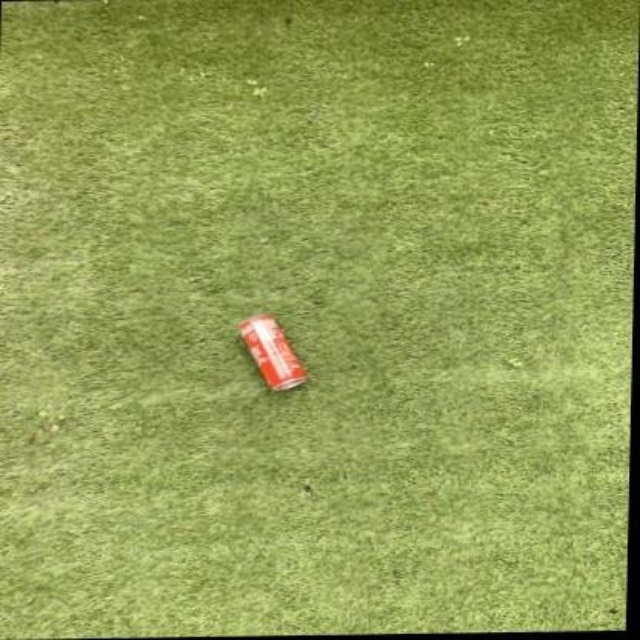trash: (238, 315, 306, 389)
